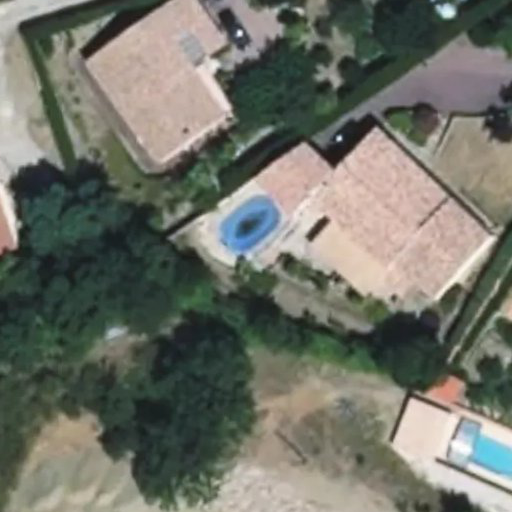pool: (219, 197, 284, 262), (449, 422, 512, 477)
